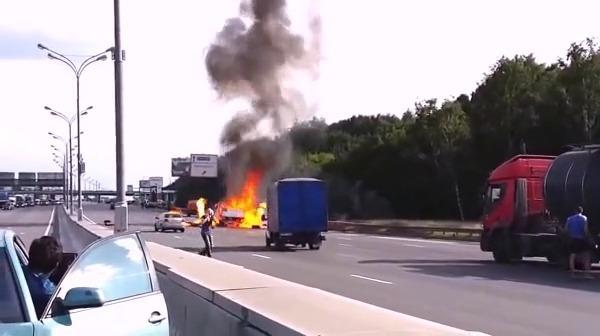fire: (213, 166, 271, 228), (194, 195, 208, 220)
